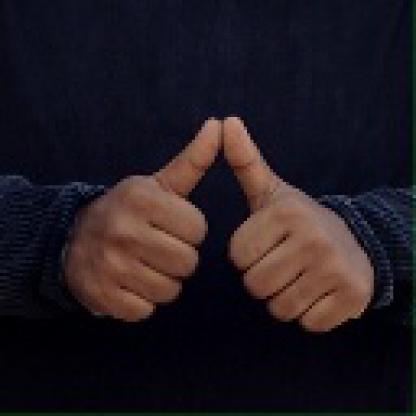A: (63, 113, 372, 330)
